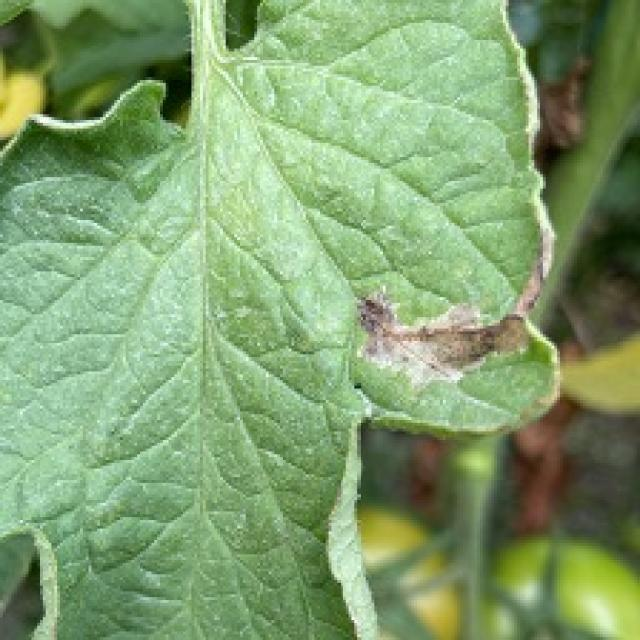Tuta absoluta: (351, 289, 530, 400)
